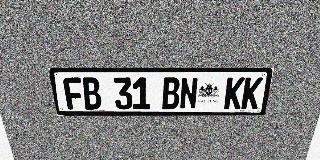1: (132, 77, 150, 109)
3: (113, 77, 132, 109)
B: (81, 77, 102, 109), (162, 77, 180, 109)
F: (62, 77, 85, 109)
K: (223, 77, 245, 109), (241, 77, 263, 109)
N: (179, 77, 198, 109)
